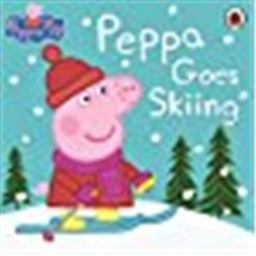Peppa: (38, 43, 158, 243)
